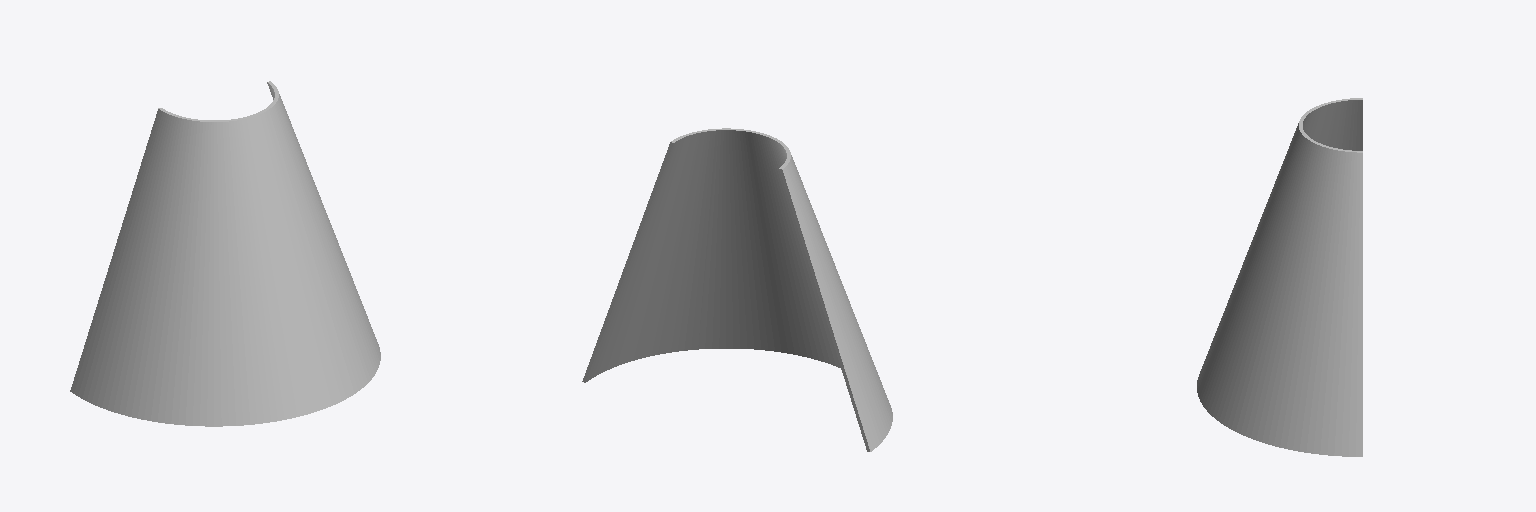
File: Cover_Sheet_Test.obj
The picture shows the model from 3 angles: view 1: azimuth 30°, elevation 25°; view 2: azimuth 150°, elevation 25°; view 3: azimuth 270°, elevation 25°; orthographic projection.
Parts seen in each view (by area): view 1: mesh2; view 2: mesh2; view 3: mesh2.
Part boxes in pixels (left/top/right/bottom): mesh2: left=70, top=81, right=380, bottom=426; mesh2: left=582, top=128, right=892, bottom=451; mesh2: left=1197, top=98, right=1362, bottom=456.
Size of the model in its own units: 0.1633 by 0.1414 by 0.0817.